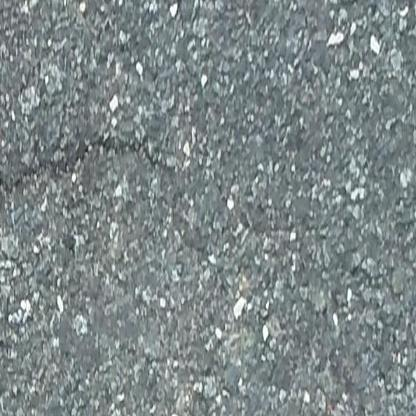Cracks: (0, 137, 102, 192), (104, 137, 163, 155)
